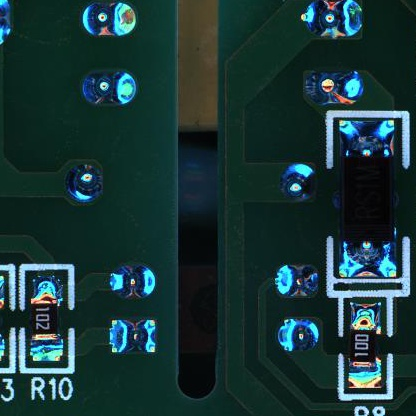spot: (300, 2, 364, 43), (304, 70, 367, 107), (80, 71, 138, 106), (108, 262, 156, 302), (83, 4, 137, 38), (109, 319, 158, 356), (277, 315, 321, 354), (275, 262, 320, 300), (66, 162, 103, 207), (279, 164, 317, 203)
